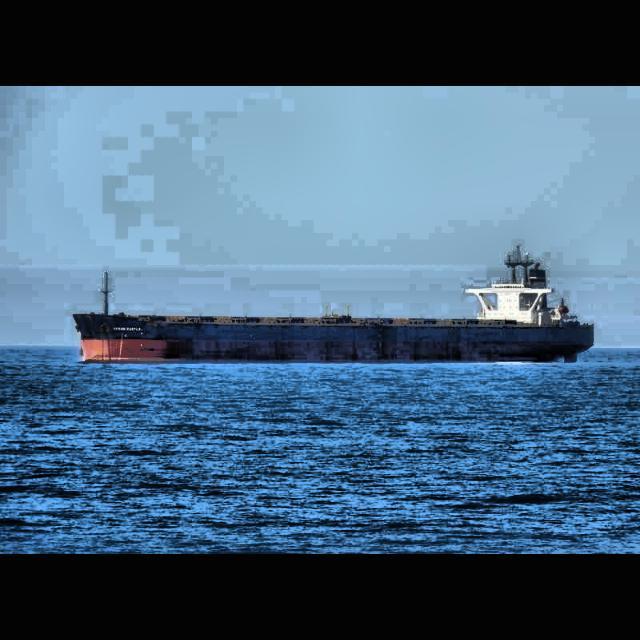bulk_carrier: (71, 243, 595, 364)
